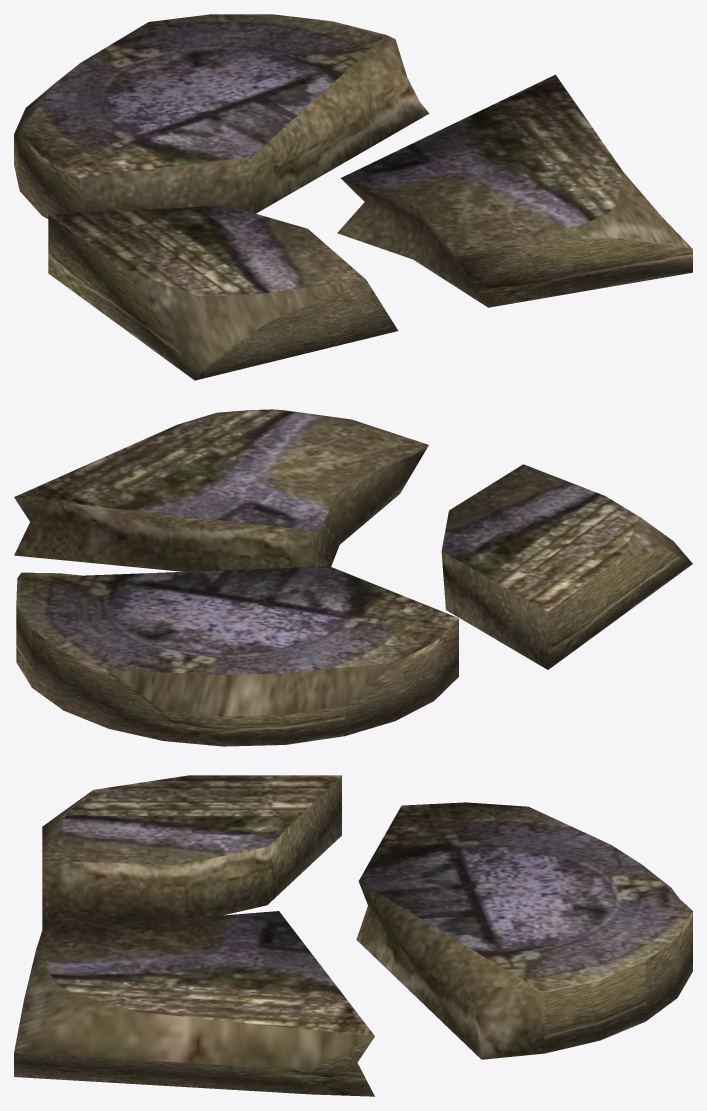
File: GS_MISC_CRACKED_STONEPLATE_10_GALI.glb
3 views of the same model, one above another, from view 1: azimuth 30°, elevation 25°; view 2: azimuth 150°, elevation 25°; view 3: azimuth 270°, elevation 25° (orthographic). The views are drawn at different scales.
Parts seen in each view (by area): view 1: Mesh; view 2: Mesh; view 3: Mesh.
Part boxes in pixels (x1=…): Mesh: x1=14, y1=14, x2=692, y2=380; Mesh: x1=14, y1=409, x2=692, y2=746; Mesh: x1=14, y1=775, x2=692, y2=1096.
Bounding box in the file's own units: 0.5557 × 0.0599 × 0.6109.
1 material, 1 textured.
